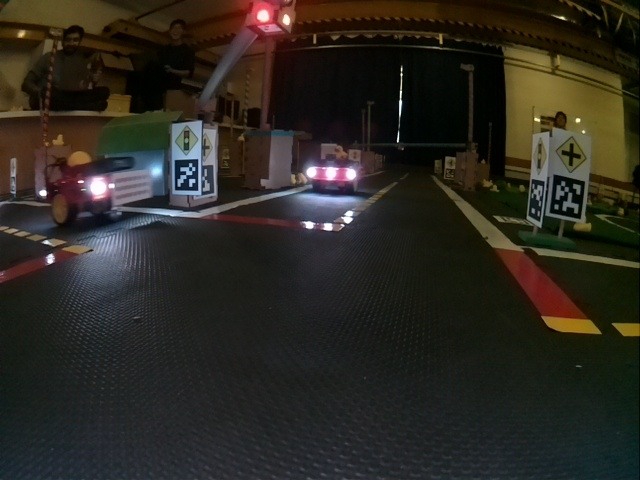Duckie: (68, 151, 89, 165)
Duckiebot: (46, 158, 151, 223), (308, 155, 358, 192)
Intersection sign: (554, 134, 589, 173)
QR code: (553, 178, 586, 219), (175, 158, 201, 191), (528, 178, 546, 224)
Signal sign: (172, 125, 200, 156), (533, 136, 547, 173)
Traffic light: (247, 5, 291, 32)
